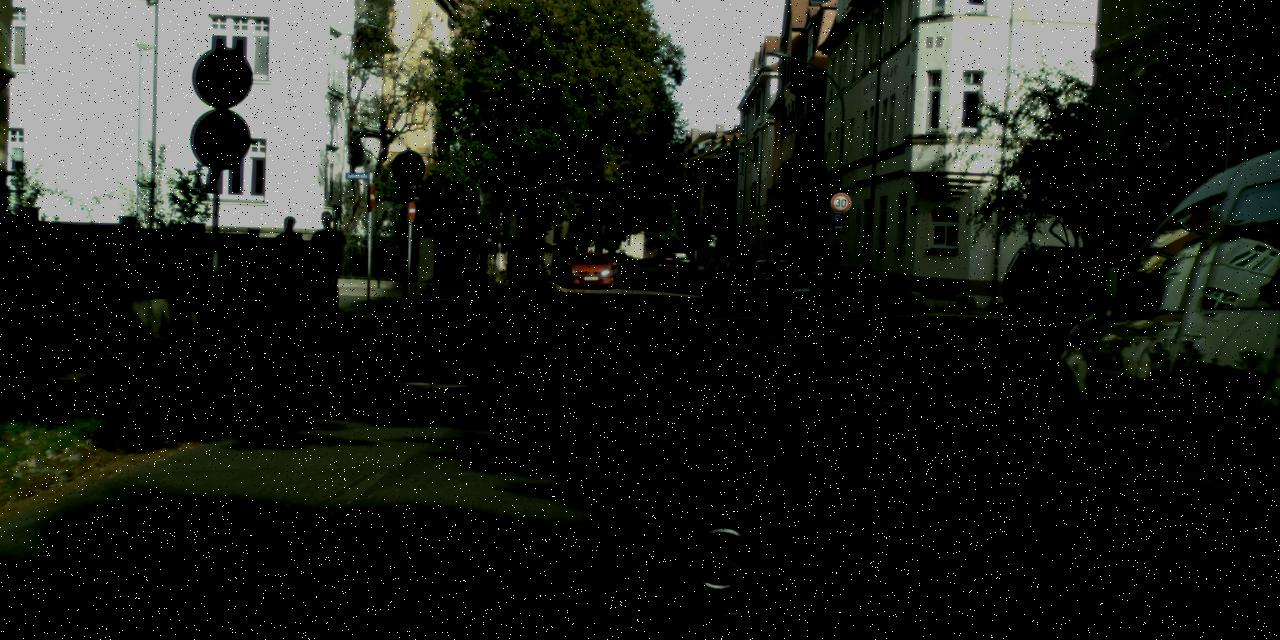ped: (302, 210, 349, 326), (265, 215, 309, 322), (738, 252, 758, 298)
